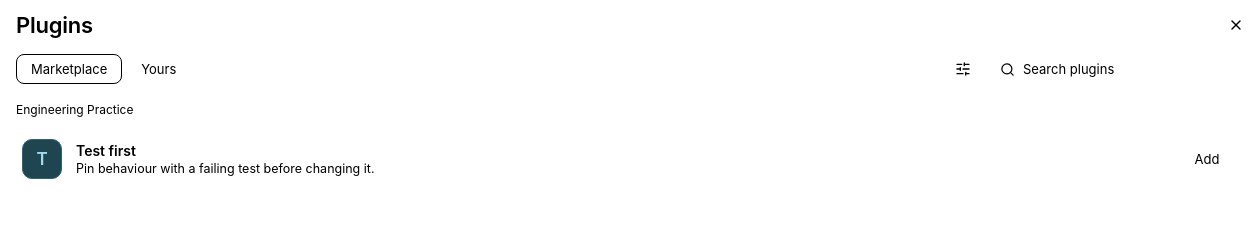
Test case: Given a plugin in the marketplace › When the install fails, Then the daemon's own sentence is shown, not a status code
This screenshot has width=1258, height=237.
Click the button "Add".
click(1207, 159)  # box [1176,145,1238,173]
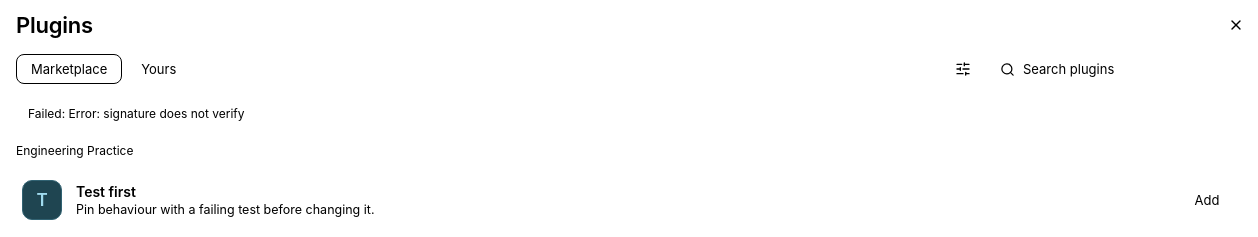
Result: the text "Failed: Error: signature does not verify" is shown at [28,106,244,121]
